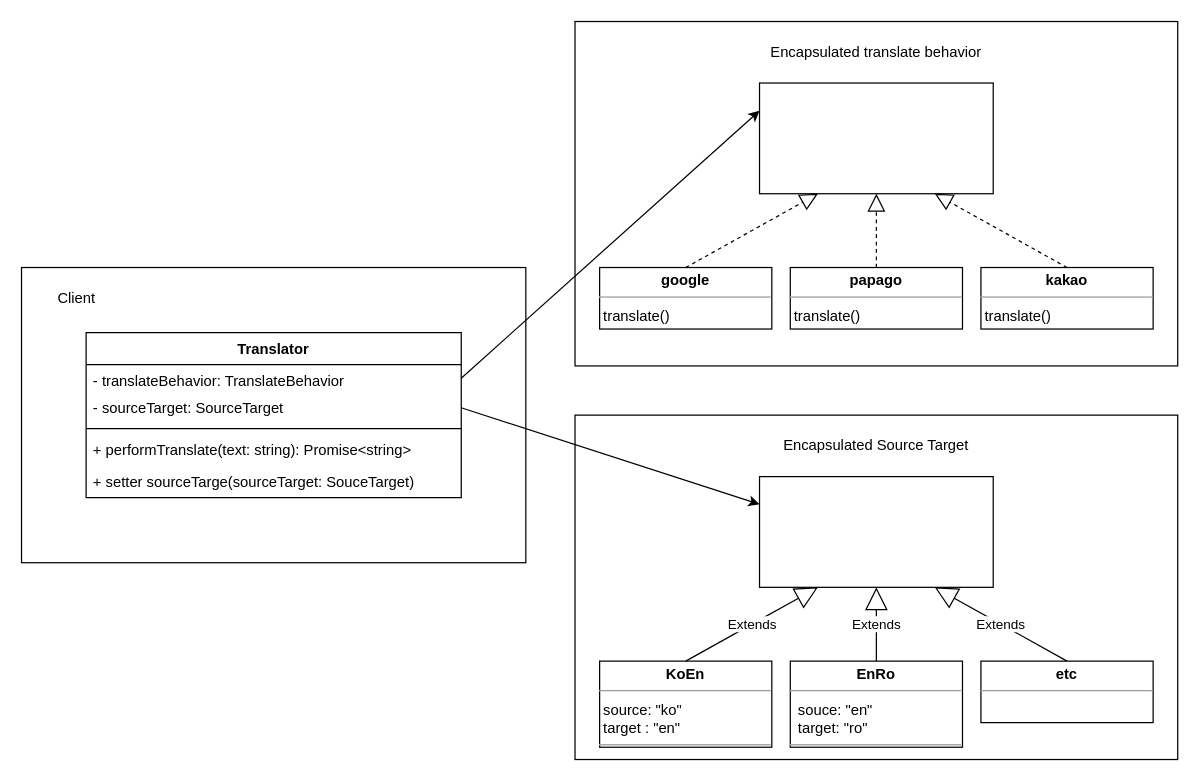
The diagram is 1199 pixels wide and 781 high, and some of its shapes have lost their labels. The shapes that lost their labels are listed below. From the top down, each one's centre as x and y in pixels, then its label:
At point 875,138: "<<Interface>> TranslateBehavior translate()".
At point 875,531: "<<abstract class>> Source Target - source: string - target: string".
